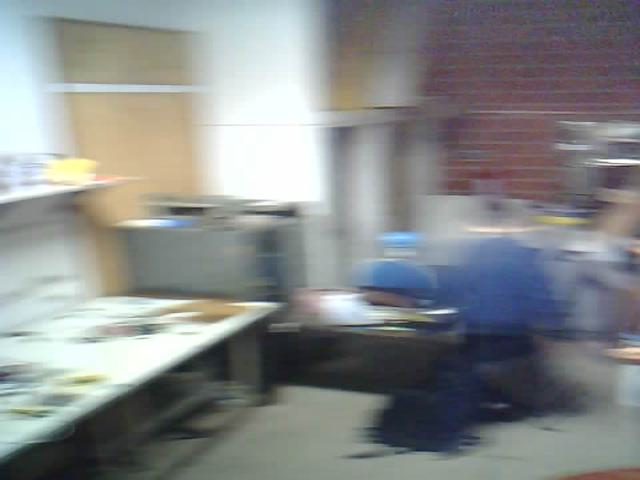person: (419, 164, 597, 429)
